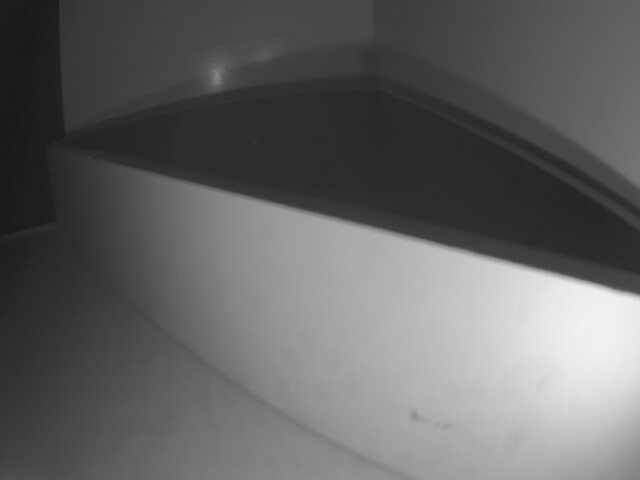Red: (44, 145, 640, 480)
